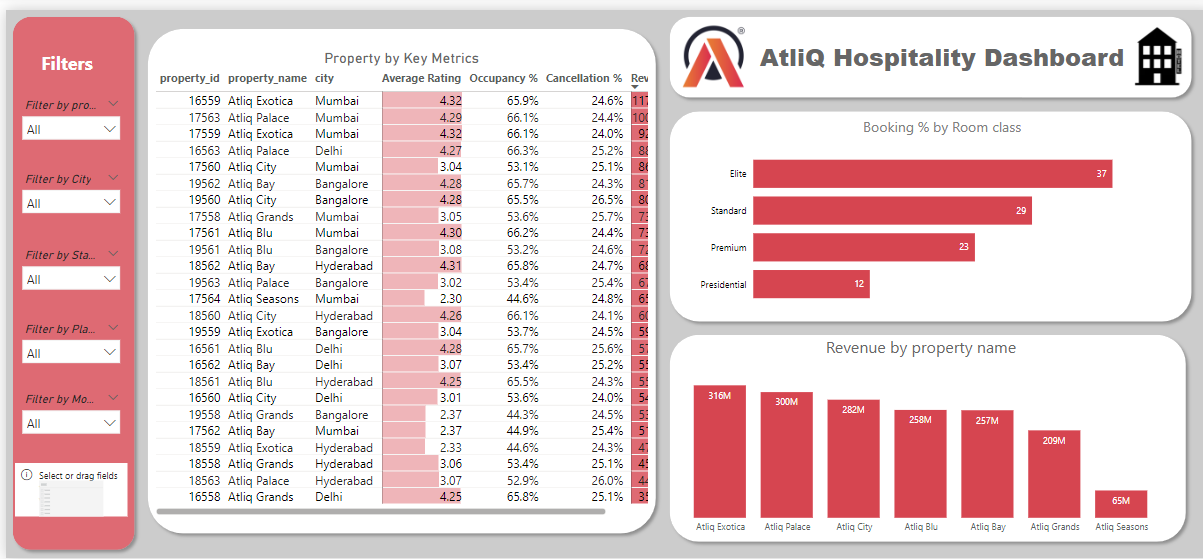

Layout of this report page (visuals, bound fields, positions):
{"tool":"powerbi","page":{"name":"Page 2","canvas":[1610,730],"ordinal":1},"visuals":[{"type":"shape","box":[180.3,16.7,695.5,690.9],"z":0},{"type":"tableEx","title":"Property by Key Metrics","fields":{"Values":["dim_hotels.property_id","dim_hotels.property_name","dim_hotels.city","key_measures.Average Rating","key_measures.Occupancy %","key_measures.cancellation_rate","key_measures.Revenue"]},"box":[194,52,667,626],"z":1000},{"type":"shape","box":[0,0,180.3,728.8],"z":2000},{"type":"slicer","box":[11.4,604.3,150,71.4],"z":3000},{"type":"slicer","fields":{"Values":["dim_date.mmm yy"]},"box":[11.4,504.3,150,71.4],"z":4000},{"type":"slicer","fields":{"Values":["fact_bookings.booking_platform"]},"box":[11.4,410,150,71.4],"z":5000},{"type":"slicer","fields":{"Values":["fact_bookings.booking_status"]},"box":[11.4,312.9,150,71.4],"z":6000},{"type":"slicer","fields":{"Values":["dim_hotels.city"]},"box":[11.4,210,150,72.9],"z":7000},{"type":"slicer","fields":{"Values":["dim_rooms.room_class"]},"box":[11.4,111.4,150,71.4],"z":8000},{"type":"textbox","box":[42.9,47.1,87.1,47.1],"z":9000},{"type":"shape","box":[875.8,0,713.6,125.8],"z":10000},{"type":"image","box":[896,12,96,98],"z":11000},{"type":"textbox","box":[992,34,512,60],"z":12000},{"type":"image","box":[1483.3,16.7,106.1,95.5],"z":13000},{"type":"shape","box":[875.8,125.8,713.6,298.5],"z":14000},{"type":"clusteredBarChart","title":"Booking % by Room class ","fields":{"Category":["dim_rooms.room_class"],"Y":["key_measures.Booking % by Room class"]},"box":[913.6,142.4,668.2,268.2],"z":15000},{"type":"shape","box":[875.8,424.2,706.1,293.9],"z":16000},{"type":"clusteredColumnChart","title":"Revenue by property name","fields":{"Y":["key_measures.Revenue"],"Category":["dim_hotels.property_name"]},"box":[875.8,434.8,687.9,272.7],"z":17000}]}

Visuals, with their boxes in screenshot pixels (x1, y1, x2, y2), scaled from the page's 1610x730 canvas onto the 1203x559 screenshot:
shape: l=135, t=13, r=654, b=542
"Property by Key Metrics" tableEx: l=145, t=40, r=643, b=519
shape: l=0, t=0, r=135, b=558
slicer: l=9, t=463, r=121, b=517
slicer - dim_date.mmm yy: l=9, t=386, r=121, b=441
slicer - fact_bookings.booking_platform: l=9, t=314, r=121, b=369
slicer - fact_bookings.booking_status: l=9, t=240, r=121, b=294
slicer - dim_hotels.city: l=9, t=161, r=121, b=217
slicer - dim_rooms.room_class: l=9, t=85, r=121, b=140
textbox: l=32, t=36, r=97, b=72
shape: l=654, t=0, r=1188, b=96
image: l=669, t=9, r=741, b=84
textbox: l=741, t=26, r=1124, b=72
image: l=1108, t=13, r=1188, b=86
shape: l=654, t=96, r=1188, b=325
"Booking % by Room class " clusteredBarChart: l=683, t=109, r=1182, b=314
shape: l=654, t=325, r=1182, b=550
"Revenue by property name" clusteredColumnChart: l=654, t=333, r=1168, b=542
